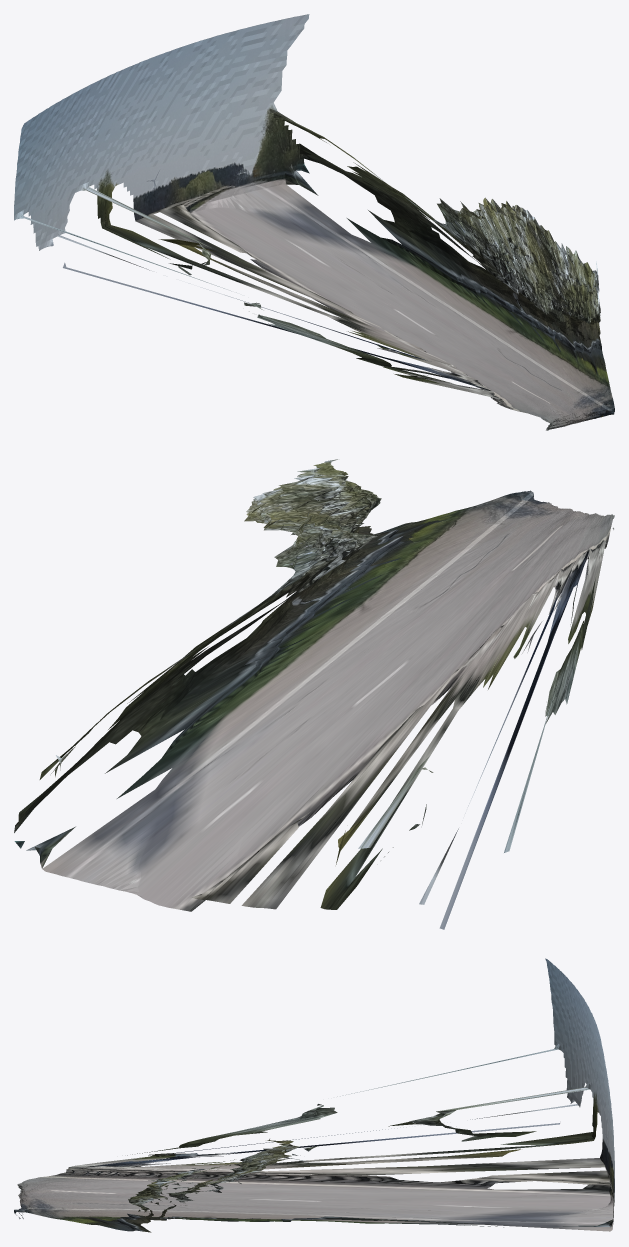
3 renders of one model, top to bottom at view 1: azimuth 30°, elevation 25°; view 2: azimuth 150°, elevation 25°; view 3: azimuth 270°, elevation 25°, orthographic. The views are drawn at different scales.
Visible parts, largest first — view 1: defaultobject; view 2: defaultobject; view 3: defaultobject.
Part boxes in pixels (x1,y1,x2,y2): defaultobject: (14,14,614,430); defaultobject: (14,459,614,929); defaultobject: (14,958,614,1232).
Size of the model in its own units: 28.3 by 12.85 by 44.54.
1 material, 1 textured.
